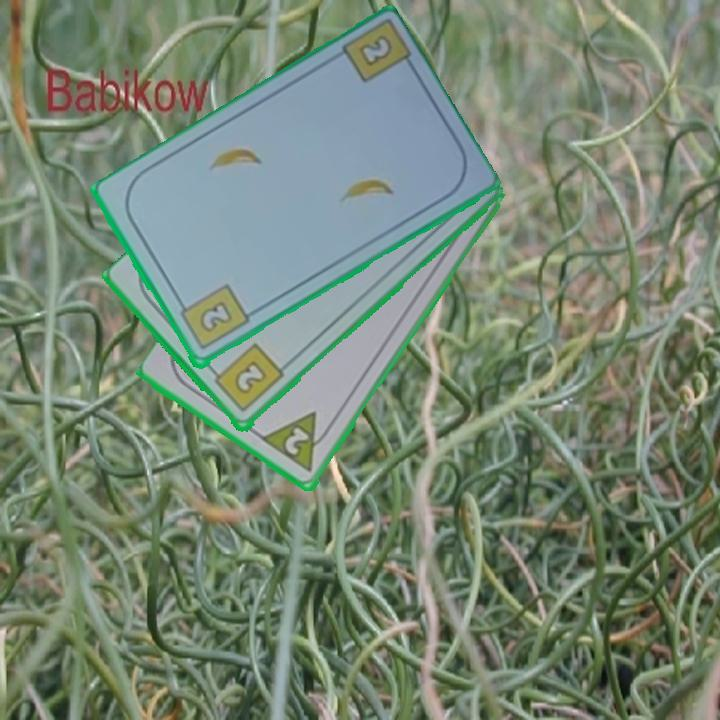2b: (206, 340, 287, 416), (174, 281, 252, 354), (355, 31, 396, 71)
2p: (259, 408, 337, 476)
